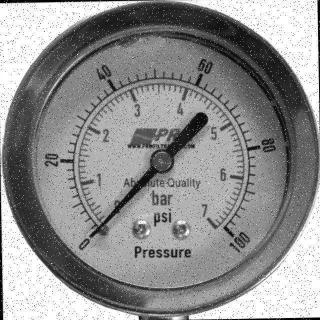gauge: (0, 8, 320, 320), (210, 216, 251, 250), (74, 221, 110, 253), (150, 148, 174, 174), (86, 226, 102, 242)
